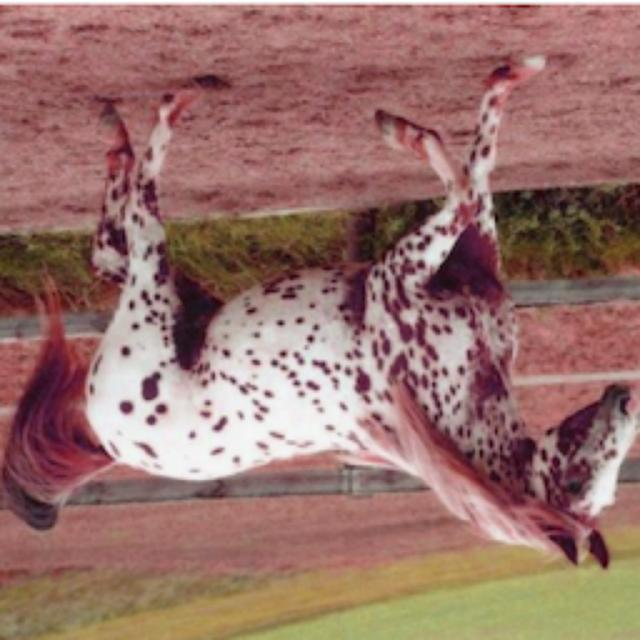Horse: (0, 50, 638, 578)
